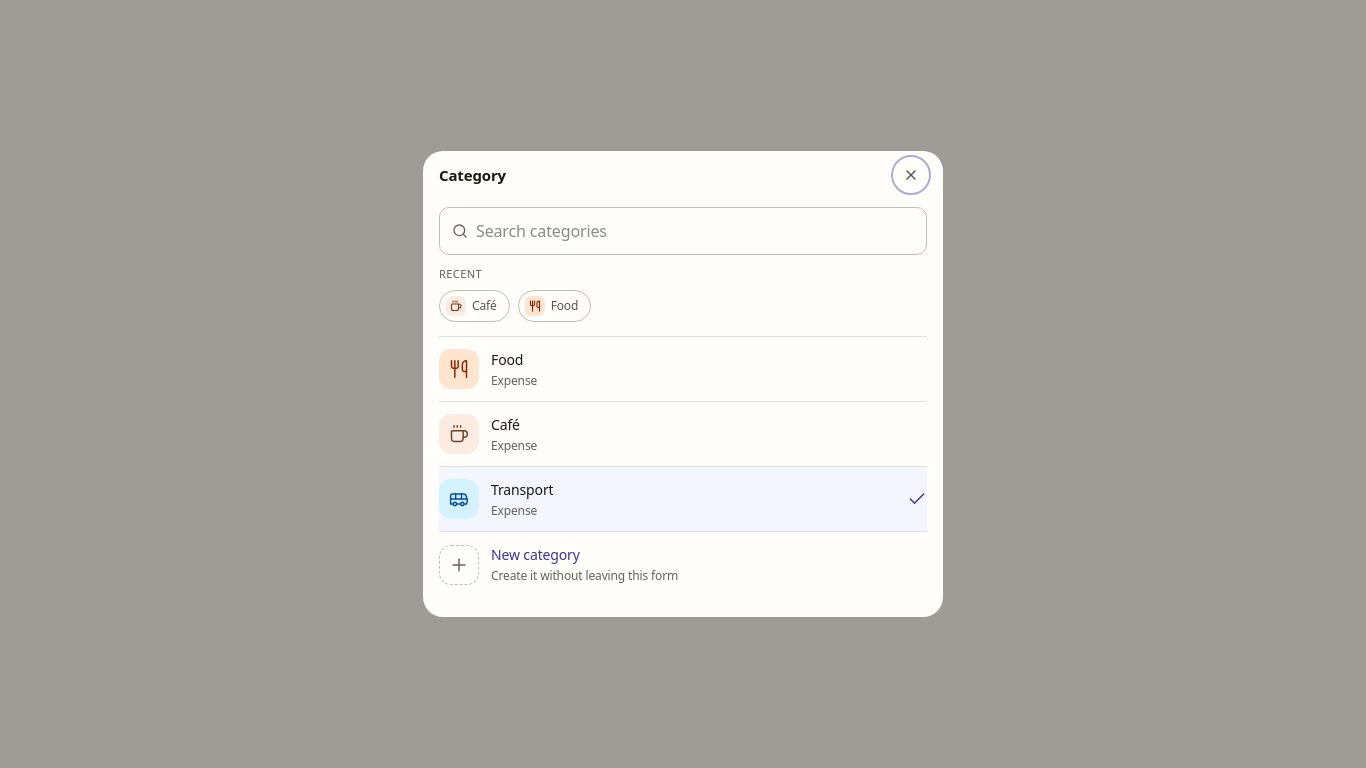
CategoryPickerSheet › filters accent-insensitively and hides the recent strip while searching
Expected: the list is shown, [439, 336, 927, 531]
Type "cafe" into the search field labelled "Search categories".
click(695, 231); type("cafe")  # box [476, 220, 914, 243]
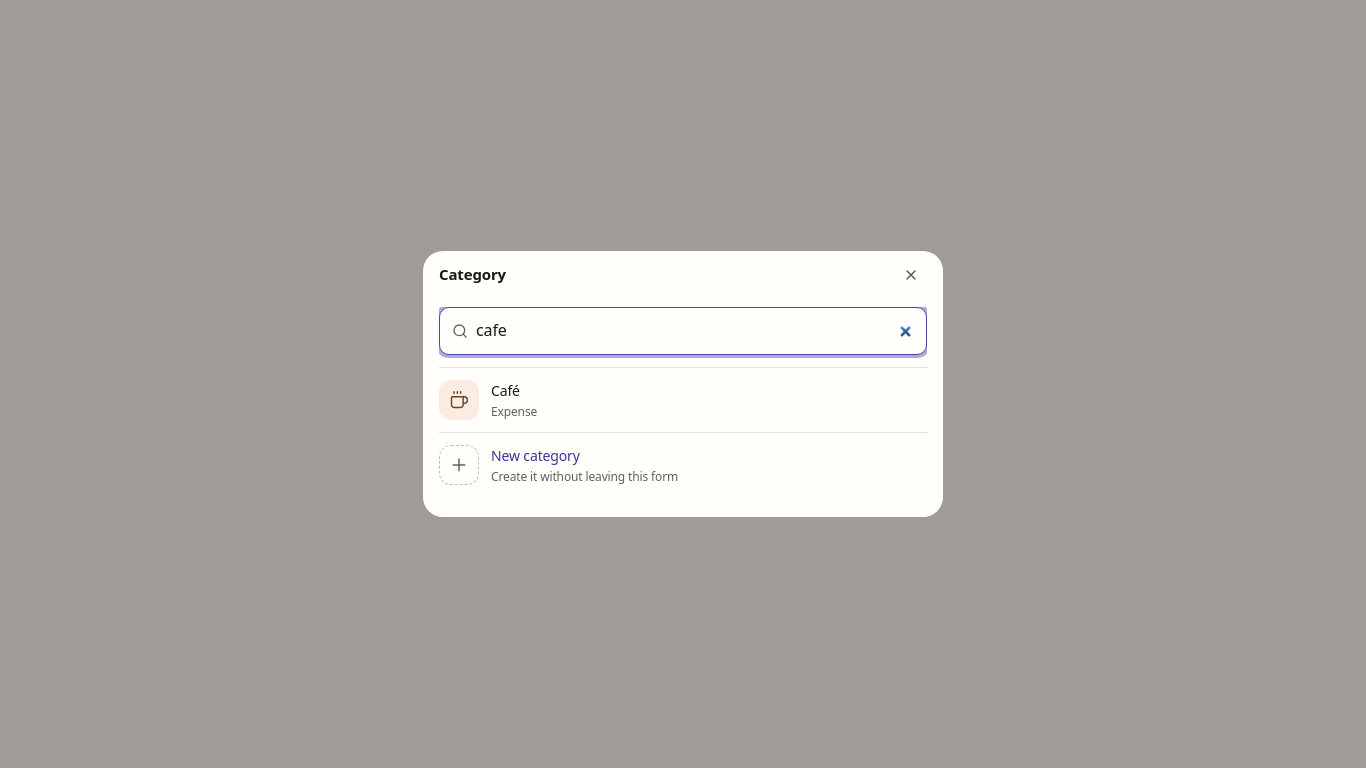
Now the number of options is 1, box [439, 367, 927, 432]
Now the text "Recent" is gone
Type "zzz" into the search field.
click(695, 331); type("zzz")  # box [476, 319, 914, 342]
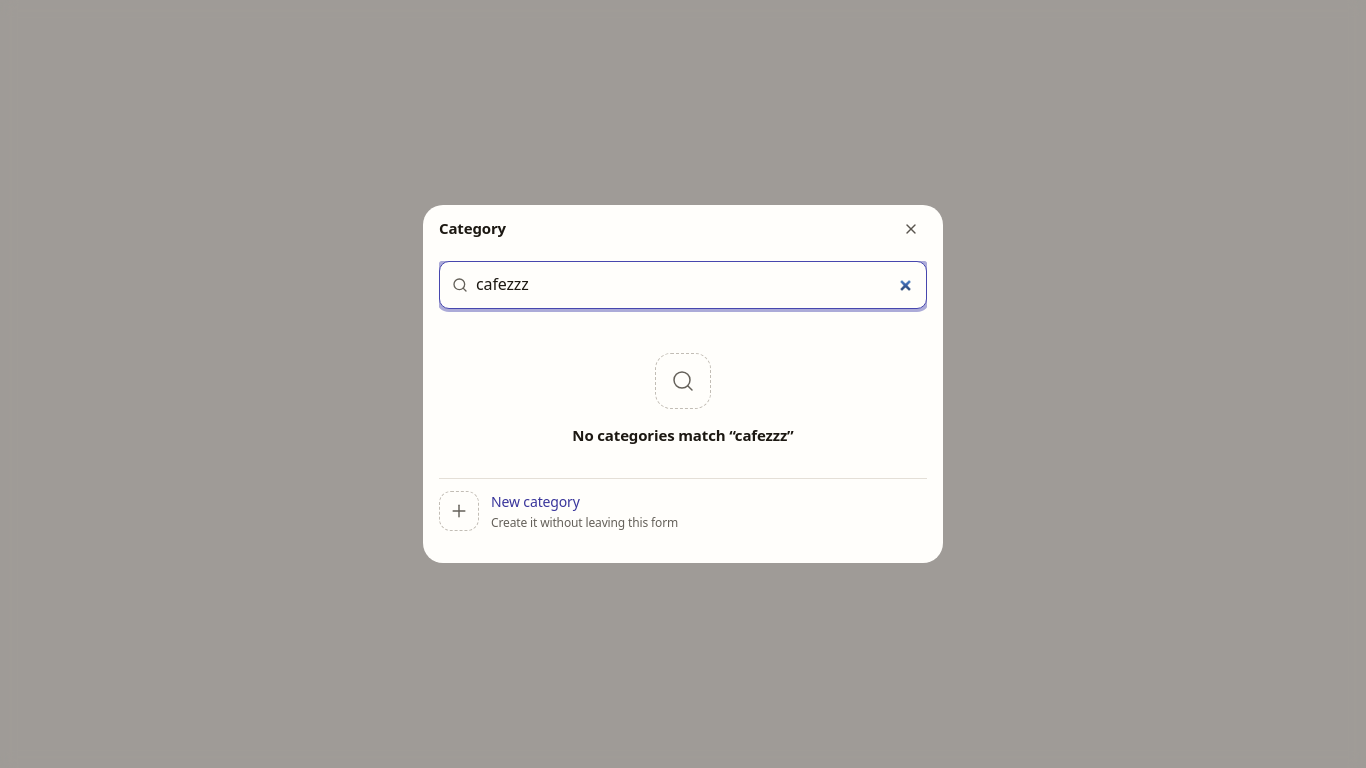
Now the heading "No categories match “cafezzz”" is shown, box [572, 424, 794, 446]
